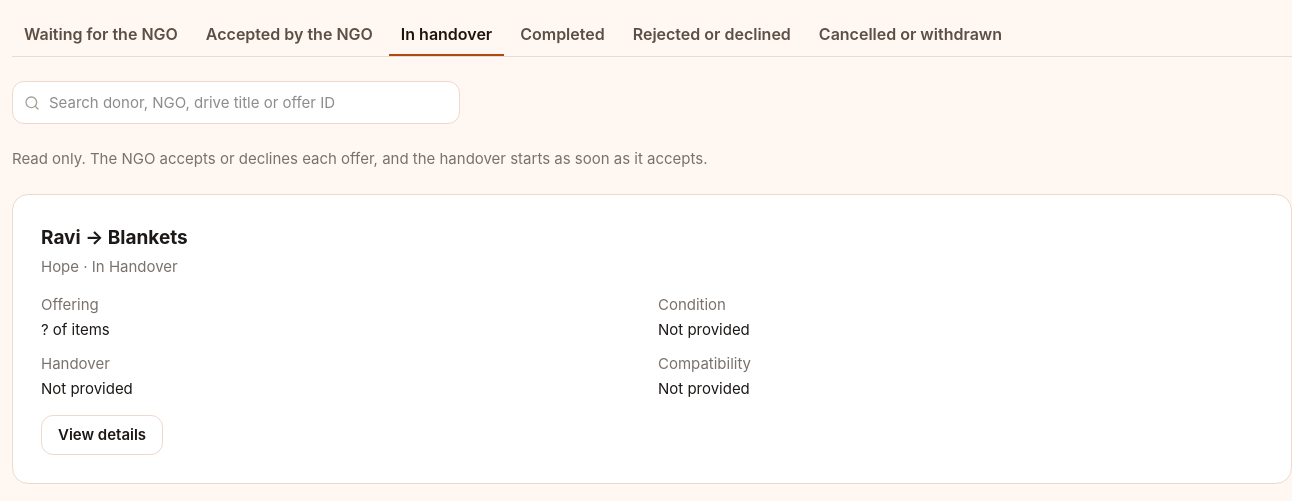
Test: Drive offers tabs › keeps In handover as the default and the same labels
Expected: the heading "Ravi → Blankets" is shown, x1=41 y1=226 x2=188 y2=249
Expected: the tabs read "Waiting for the NGO", "Accepted by the NGO", "In handover", "Completed", "Rejected or declined", "Cancelled or withdrawn", in this order, x1=12 y1=12 x2=190 y2=56; x1=194 y1=12 x2=385 y2=56; x1=389 y1=12 x2=504 y2=56; x1=508 y1=12 x2=617 y2=56; x1=621 y1=12 x2=803 y2=56; x1=807 y1=12 x2=1014 y2=56
Type "zz" into the search field at [236, 103], box x1=12 y1=81 x2=460 y2=124
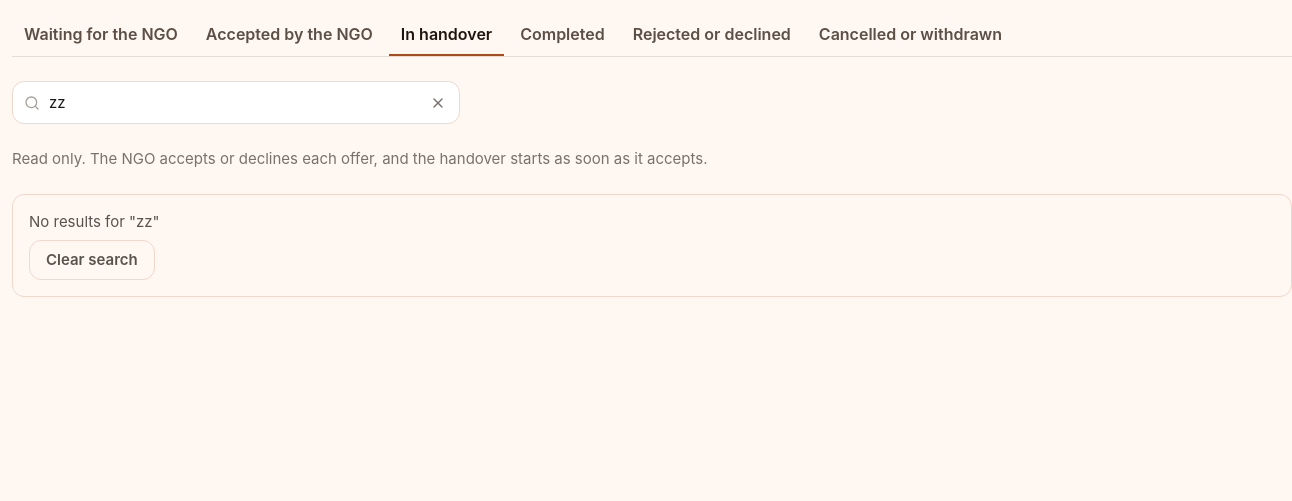
Expected: the text "No results for \"zz\"" is shown, x1=29 y1=212 x2=160 y2=231
